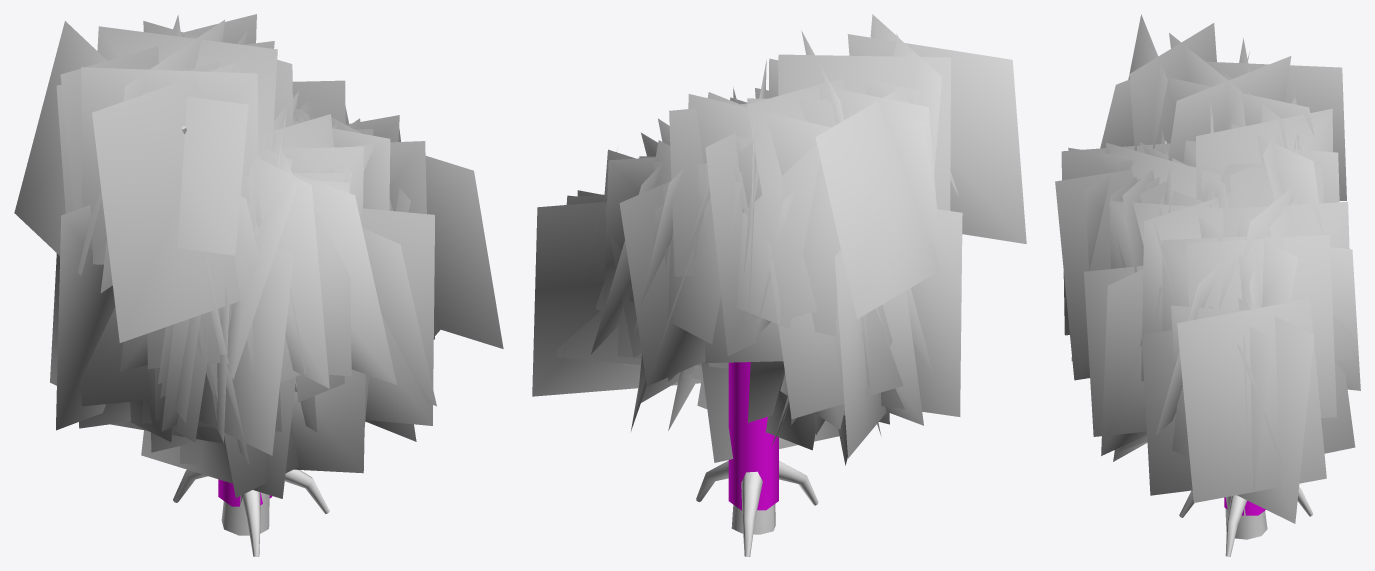
Rendered from tree_broad.glb.
The picture shows the model from 3 angles, left to right: view 1: azimuth 30°, elevation 25°; view 2: azimuth 150°, elevation 25°; view 3: azimuth 270°, elevation 25°; orthographic projection. The views are drawn at different scales.
Visible parts, largest first — view 1: tree_broad; view 2: tree_broad, tree_broad_hull; view 3: tree_broad.
Part boxes in pixels (x1,y1,x2,y2): tree_broad: (14, 14, 503, 556); tree_broad: (532, 14, 1026, 556); tree_broad_hull: (728, 362, 778, 510); tree_broad: (1055, 14, 1360, 556).
Size of the model in its own units: 6.64 by 7.43 by 4.74.
